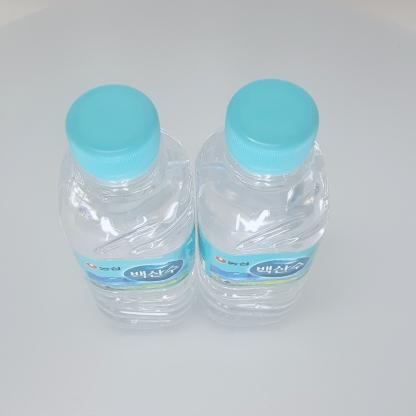-----330ML: (58, 84, 196, 330), (195, 78, 331, 326)
